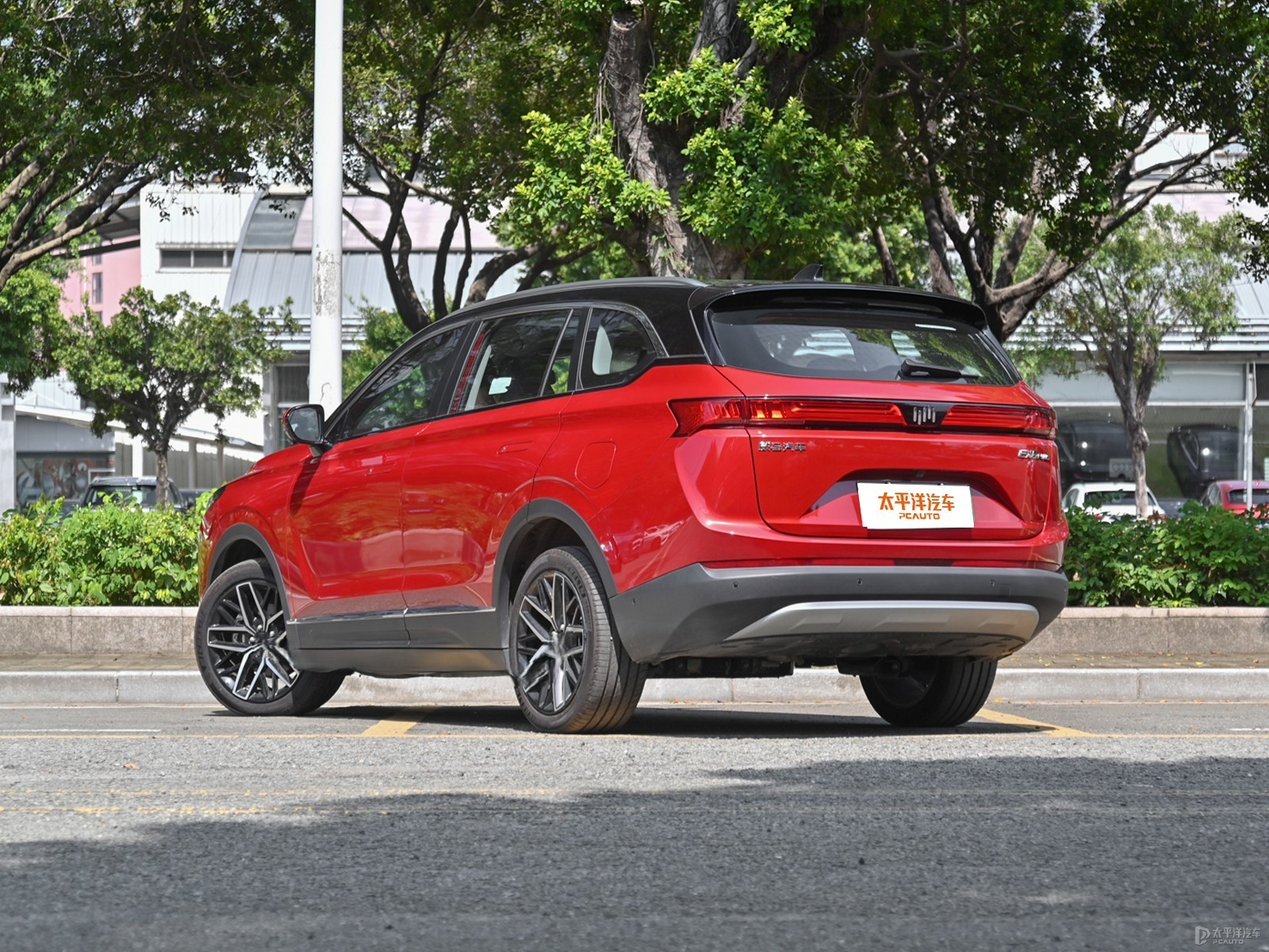WELTMEISTER: (914, 405, 935, 424)
